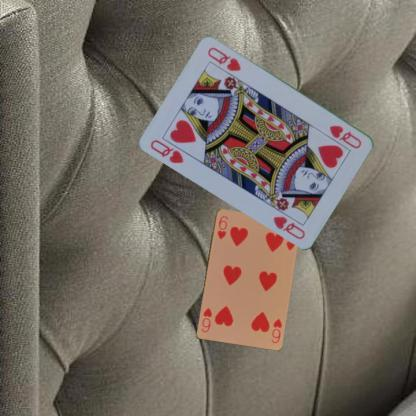6h: (214, 213, 229, 240), (269, 316, 283, 344)
Qh: (148, 137, 185, 165), (327, 123, 363, 150)
